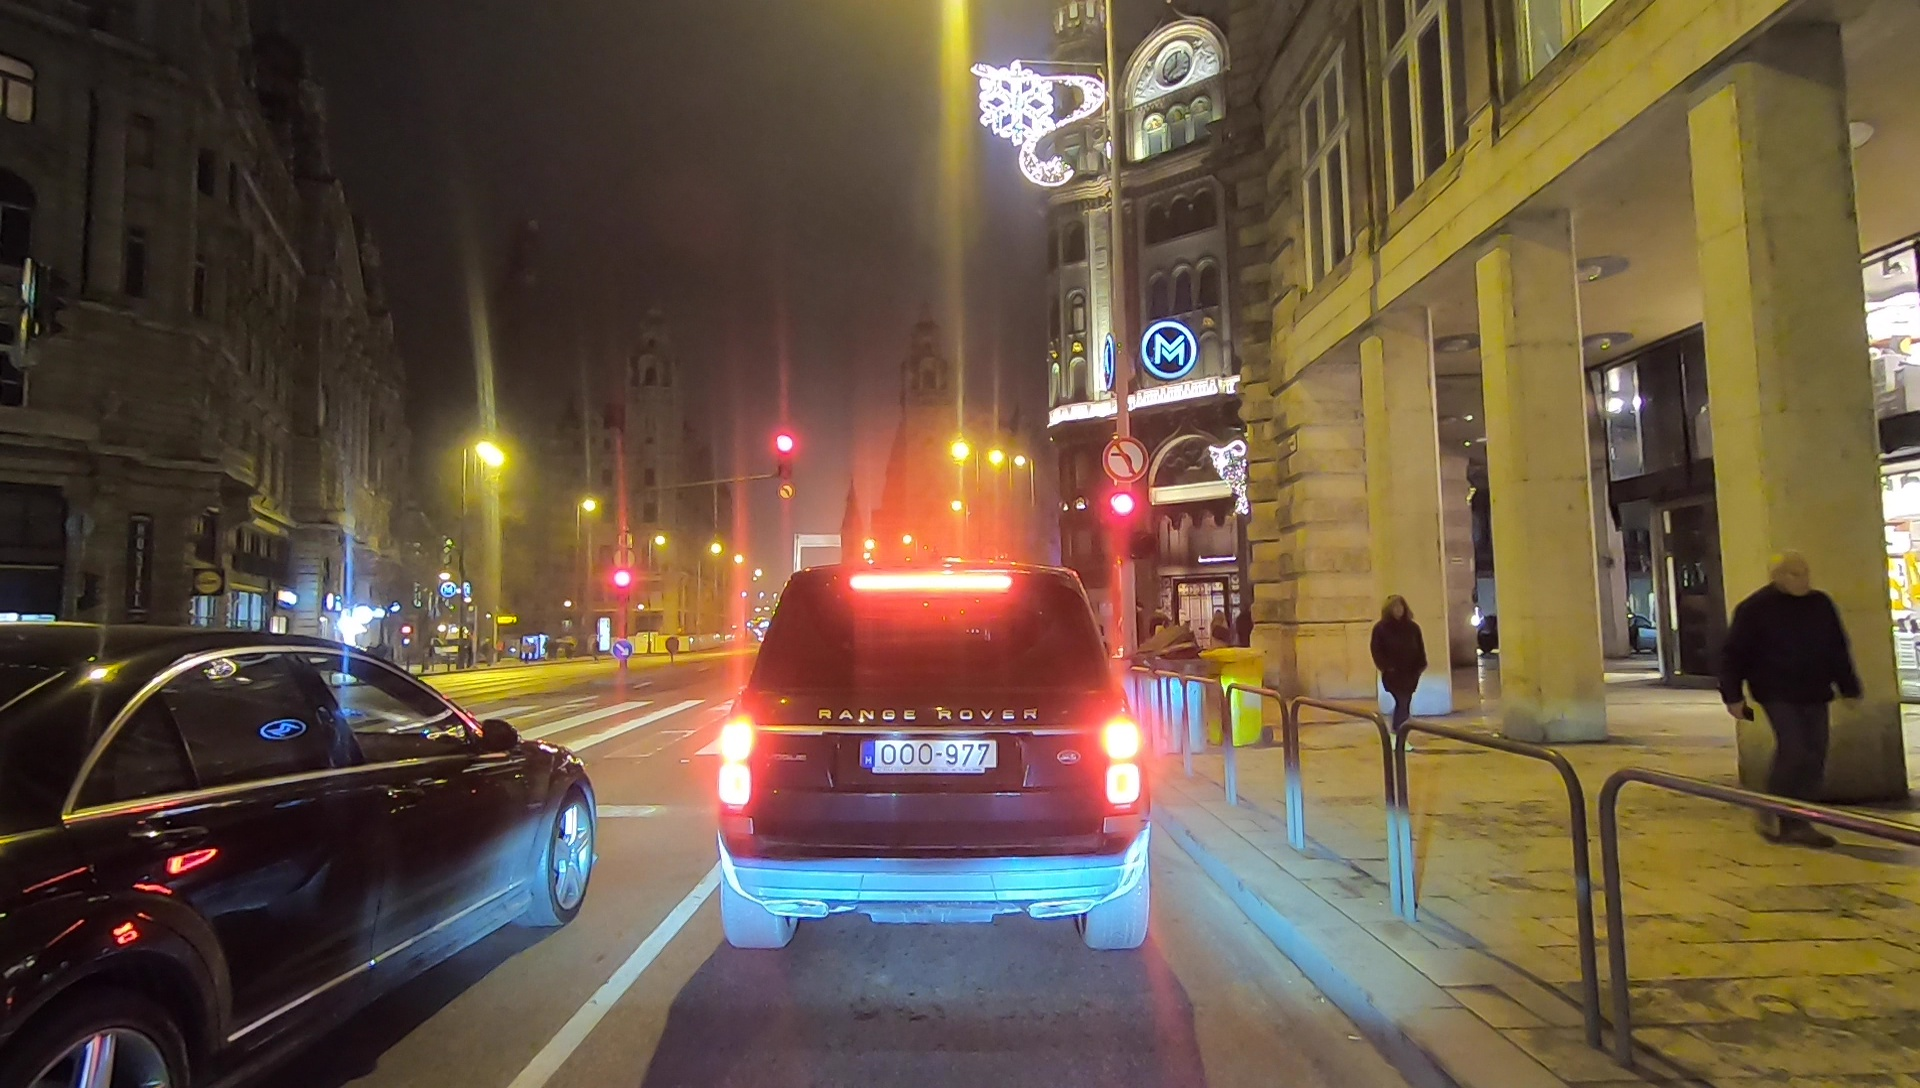person: (1725, 561, 1860, 858), (1373, 597, 1425, 745)
